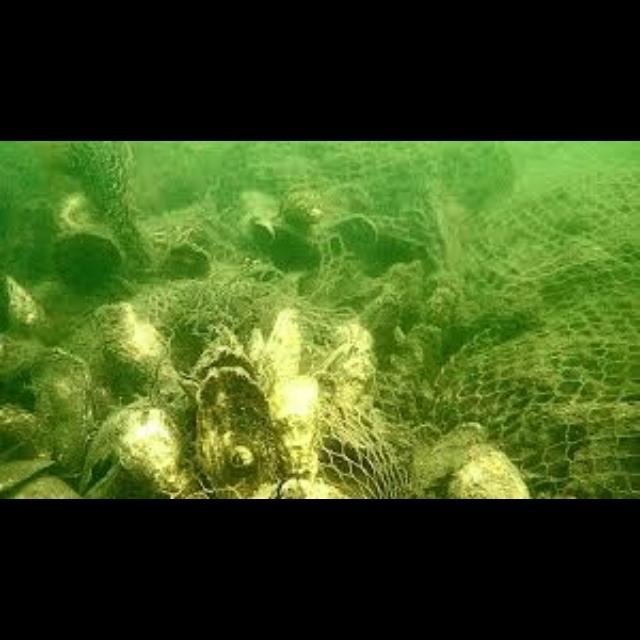Oyster-Closed: (196, 367, 279, 488), (81, 401, 186, 493), (86, 302, 168, 397), (34, 348, 92, 470), (258, 371, 324, 449), (449, 445, 530, 498), (55, 232, 122, 292), (190, 326, 258, 383), (264, 308, 302, 388), (319, 336, 375, 386), (354, 293, 400, 353), (406, 318, 459, 367), (240, 191, 279, 254), (0, 276, 45, 330), (376, 260, 426, 308), (270, 225, 320, 271), (418, 280, 460, 334), (389, 338, 435, 384), (284, 184, 324, 232), (0, 334, 35, 387), (273, 437, 317, 479), (169, 241, 210, 278)
Oyster-Open: (331, 212, 385, 260)
